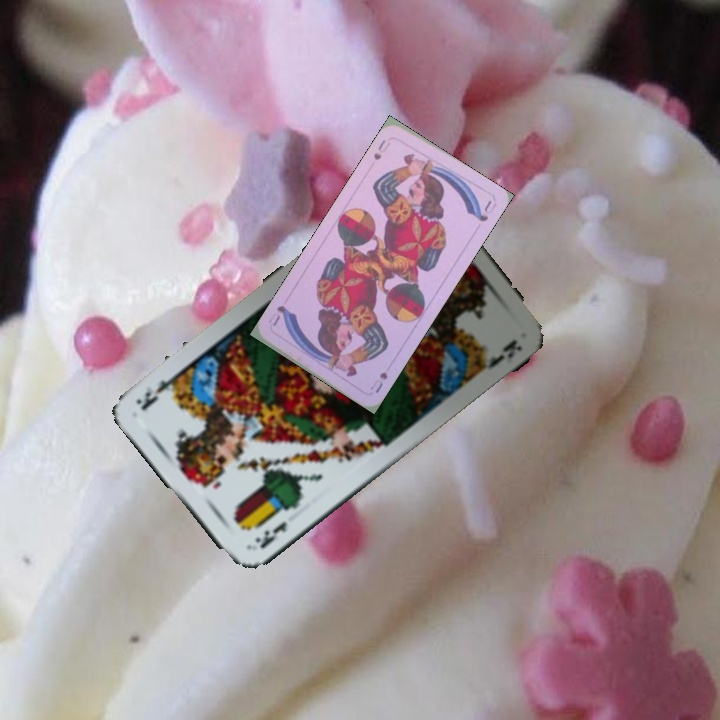EK: (250, 516, 289, 552)
SU: (366, 368, 390, 396), (369, 136, 388, 163)
